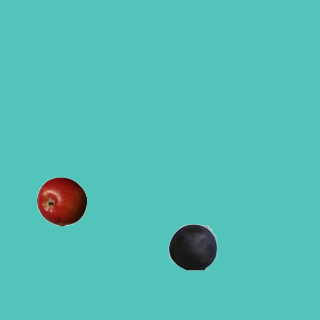Apple Braeburn: (36, 176, 86, 226)
Grape Blue: (167, 221, 217, 271)
